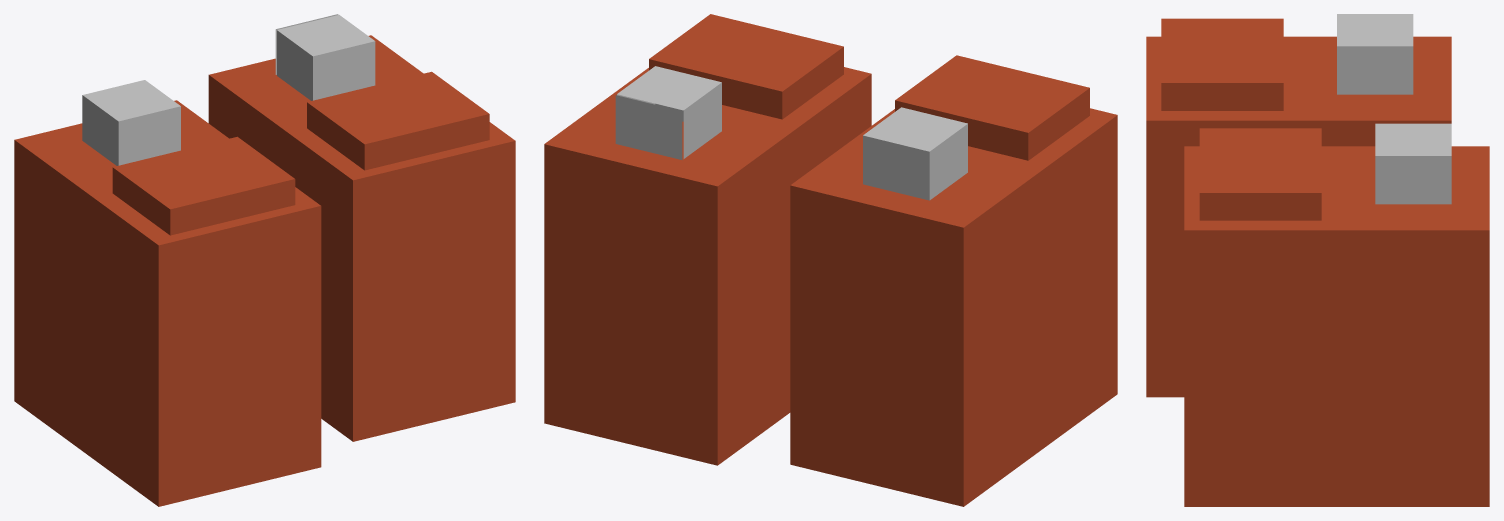
File: item_chemfuel.obj
The picture shows the model from 3 angles, left to right: view 1: azimuth 30°, elevation 25°; view 2: azimuth 150°, elevation 25°; view 3: azimuth 270°, elevation 25°; orthographic projection. The views are drawn at different scales.
Parts seen in each view (by area): view 1: item_chemfuel; view 2: item_chemfuel; view 3: item_chemfuel.
Part boxes in pixels (x1,y1,x2,y2): item_chemfuel: (14,14,515,506); item_chemfuel: (544,14,1117,506); item_chemfuel: (1146,14,1489,506).
Bounding box in the file's own units: 0.6 × 0.47 × 0.45.
